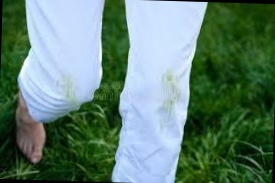earth: (164, 72, 182, 118), (65, 79, 77, 101)
